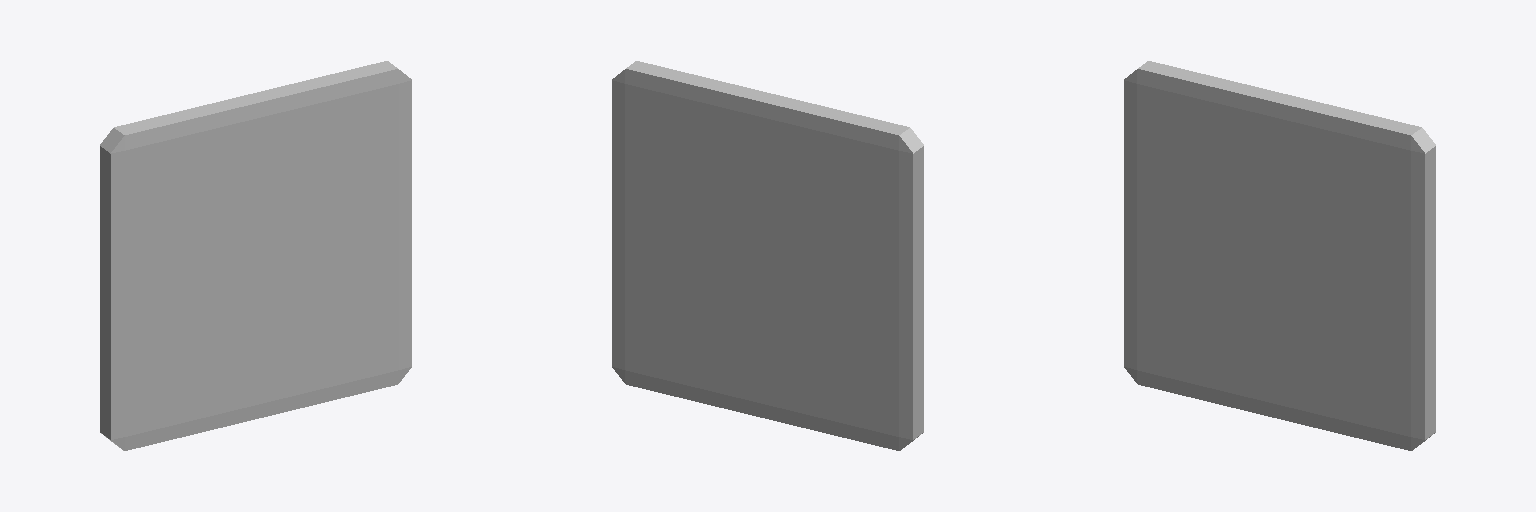
Rendered from disk.obj.
3 renders of one model, left to right at view 1: azimuth 30°, elevation 25°; view 2: azimuth 150°, elevation 25°; view 3: azimuth 330°, elevation 25°, orthographic.
Visible parts, largest first — view 1: Cube; view 2: Cube; view 3: Cube.
Boxes of the visible parts, x1,y1,x2,y2 form: Cube: [100, 61, 411, 450]; Cube: [612, 61, 923, 450]; Cube: [1124, 61, 1435, 450].
Size of the model in its own units: 2 by 2 by 0.14.